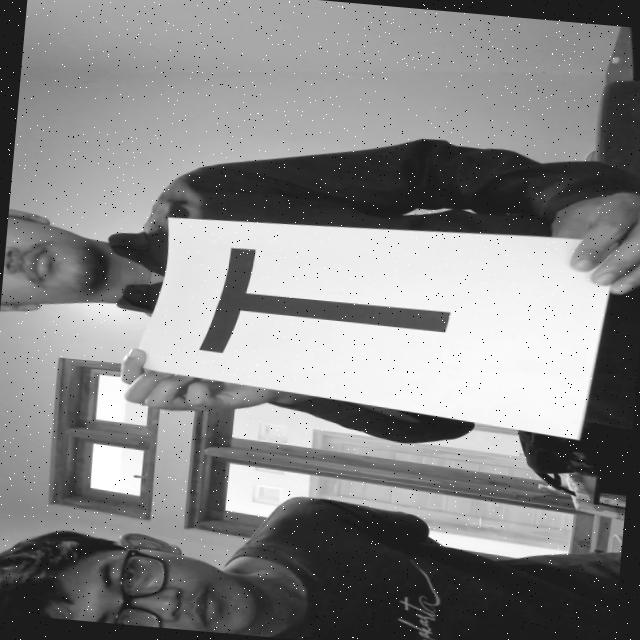t: (188, 222, 468, 386)
